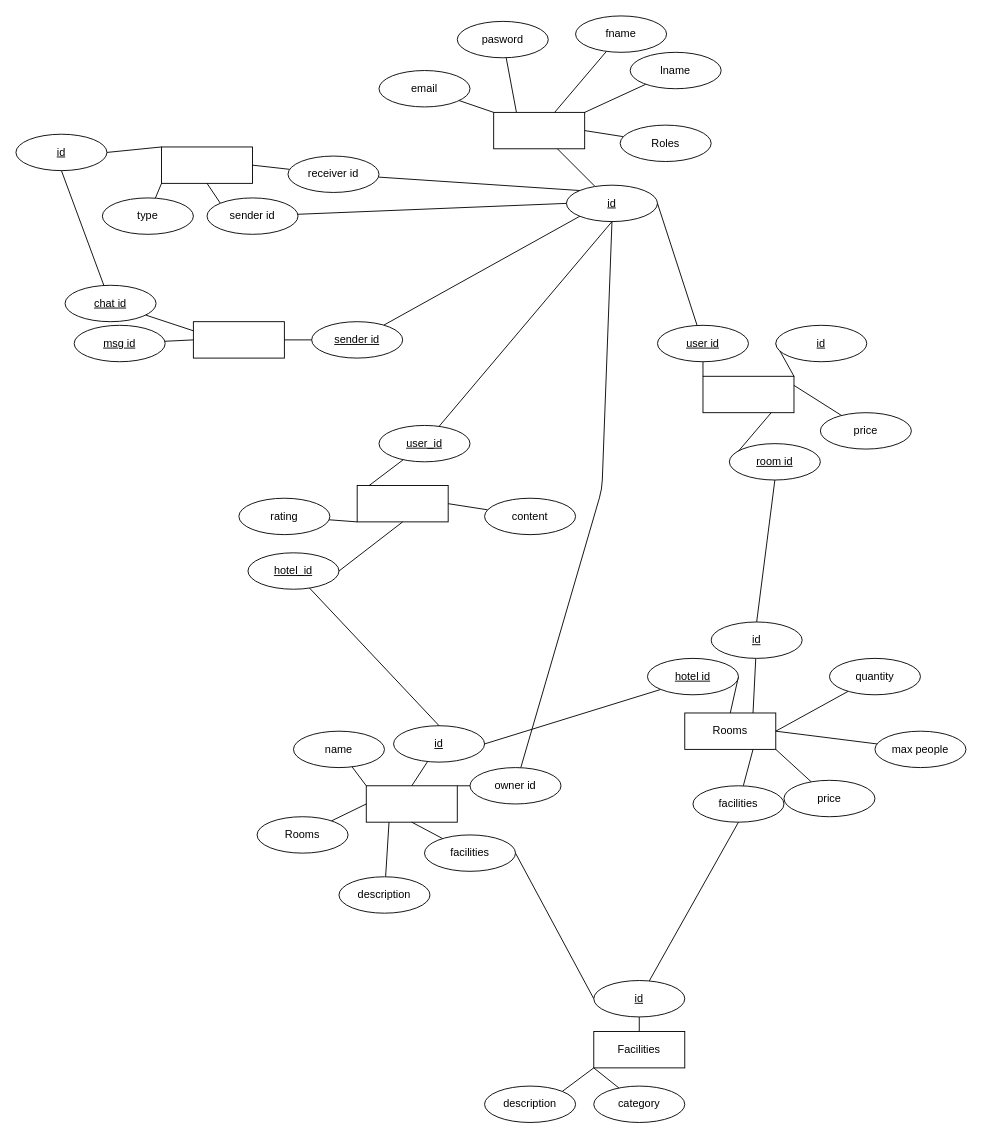
The diagram is 982 pixels wide and 1138 high, and some of its shapes have lost their labels. The shapes that lost their labels are listed below. From the top down, each one's centre as x and y in pixels, then its label:
the point at 539,130: Users
the point at 207,164: Chat tickets
the point at 238,339: Messages
the point at 748,394: Reservations
the point at 402,503: Review
the point at 411,803: Property
